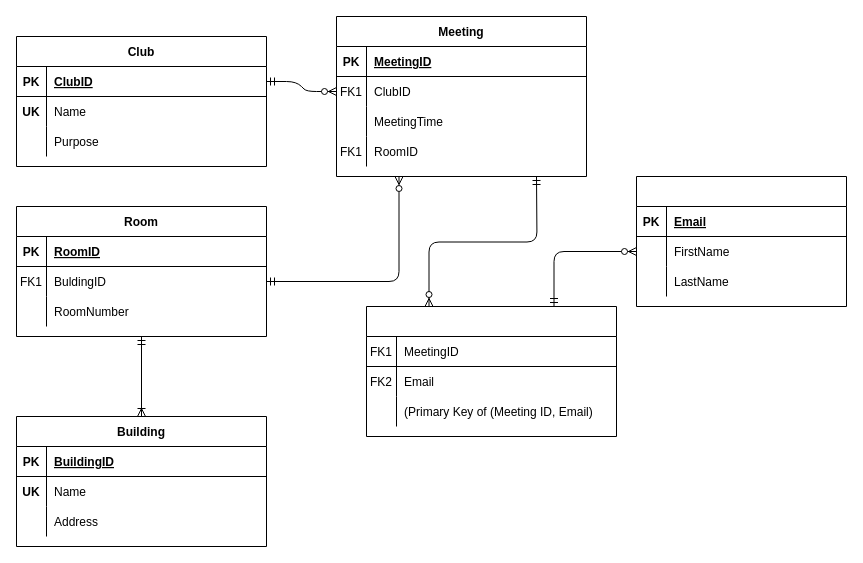
The diagram is 863 pixels wide and 563 high, and some of its shapes have lost their labels. The box of each missing label's shape, as (x1, y1, x2, y2) in pixels:
Attendee: (636, 176, 846, 306)
MeetingAttendee: (366, 306, 616, 436)
